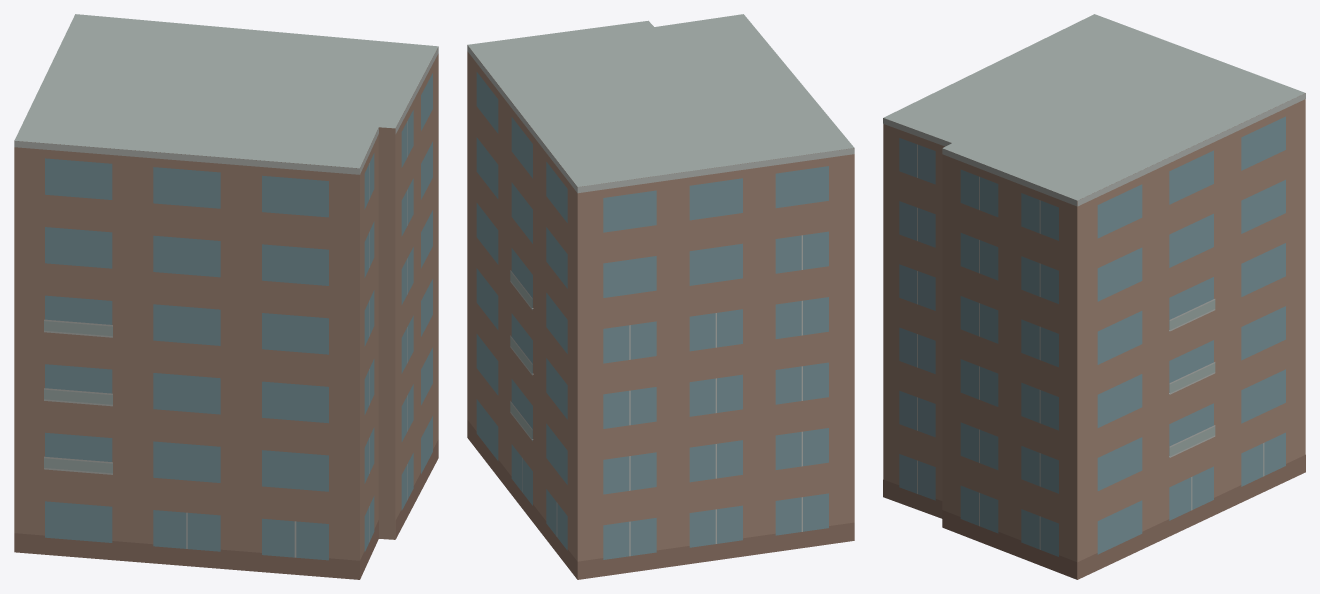
The model's file is survey-upis-32850333.glb.
3 views of the same model, side by side, from view 1: azimuth 30°, elevation 25°; view 2: azimuth 150°, elevation 25°; view 3: azimuth 270°, elevation 25° (orthographic). The views are drawn at different scales.
Visible parts, largest first — view 1: survey-upis-32850333.tmp; view 2: survey-upis-32850333.tmp; view 3: survey-upis-32850333.tmp.
Boxes of the visible parts, bbox=[...] form: survey-upis-32850333.tmp: bbox=[14, 14, 438, 579]; survey-upis-32850333.tmp: bbox=[467, 14, 854, 579]; survey-upis-32850333.tmp: bbox=[883, 14, 1305, 579].
Size of the model in its own units: 16.37 by 15.5 by 15.66.
